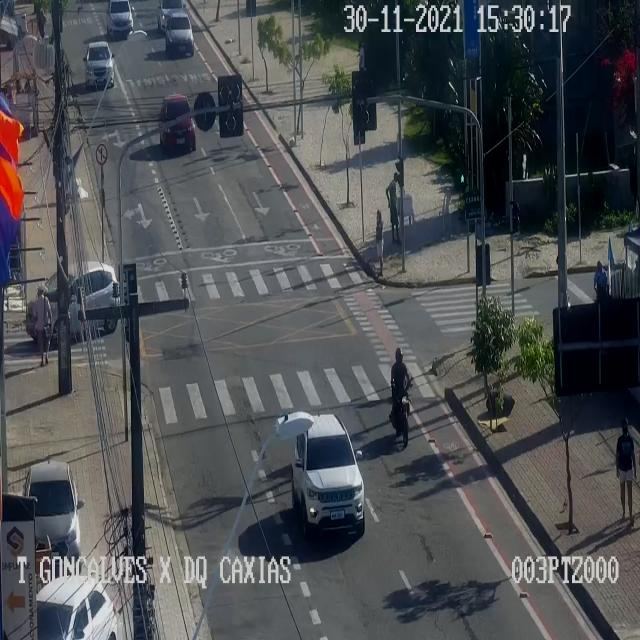Car: (292, 414, 366, 539), (27, 260, 120, 334), (25, 456, 83, 562), (37, 572, 119, 639), (160, 94, 197, 155), (82, 41, 116, 89), (165, 13, 194, 57), (156, 0, 191, 31), (106, 1, 134, 37)
Motorcycle: (389, 344, 413, 448)
